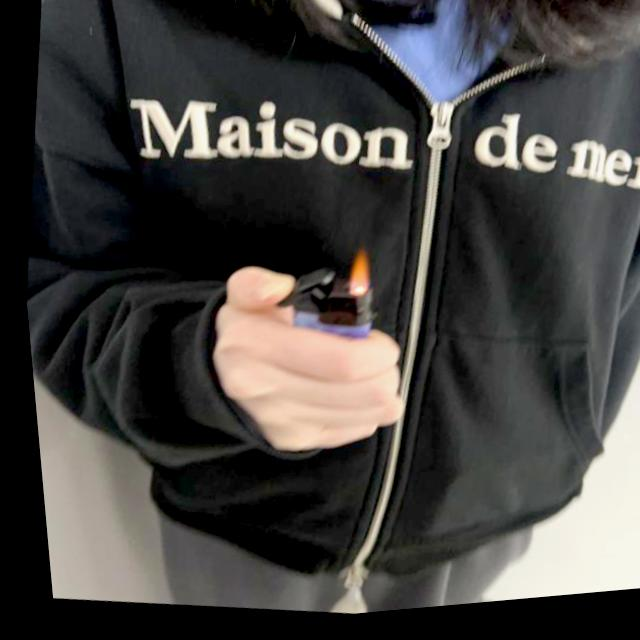helmet: (339, 249, 371, 305)
